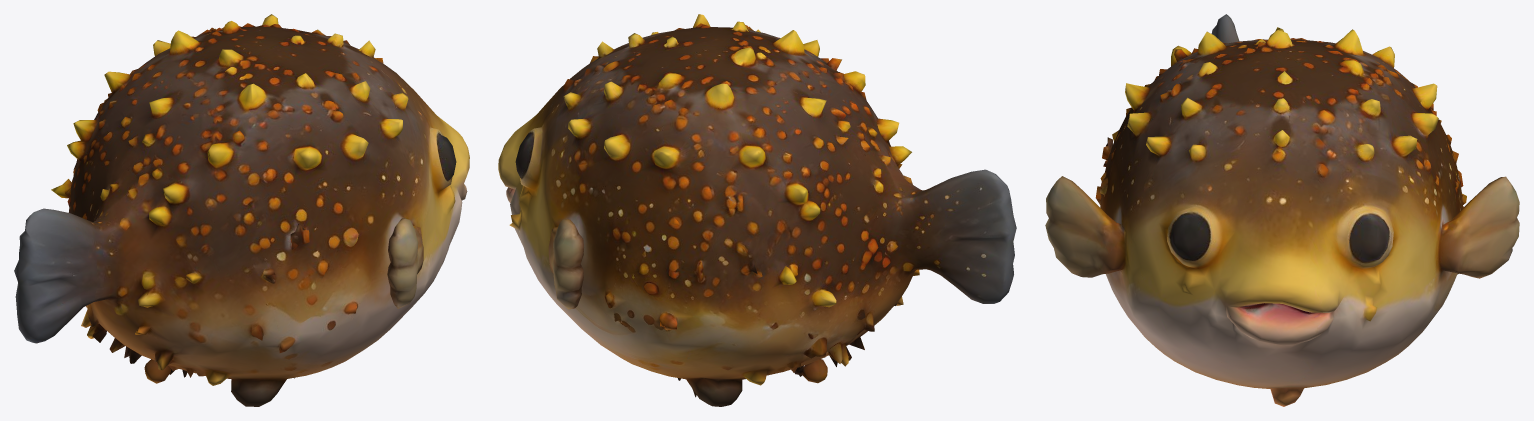
The model's file is puffer.glb.
3 views of the same model, side by side, from view 1: azimuth 30°, elevation 25°; view 2: azimuth 150°, elevation 25°; view 3: azimuth 270°, elevation 25° (orthographic).
Parts seen in each view (by area): view 1: tripo_node_ca2ce69a-fe56-4fce-bdd0-1629a21faea5; view 2: tripo_node_ca2ce69a-fe56-4fce-bdd0-1629a21faea5; view 3: tripo_node_ca2ce69a-fe56-4fce-bdd0-1629a21faea5.
Boxes of the visible parts, x1,y1,x2,y2 form: tripo_node_ca2ce69a-fe56-4fce-bdd0-1629a21faea5: (14,14,469,406); tripo_node_ca2ce69a-fe56-4fce-bdd0-1629a21faea5: (498,14,1016,406); tripo_node_ca2ce69a-fe56-4fce-bdd0-1629a21faea5: (1045,14,1519,406).
Size of the model in its own units: 0.9989 by 0.6548 by 0.8578.
1 material, 1 textured.
